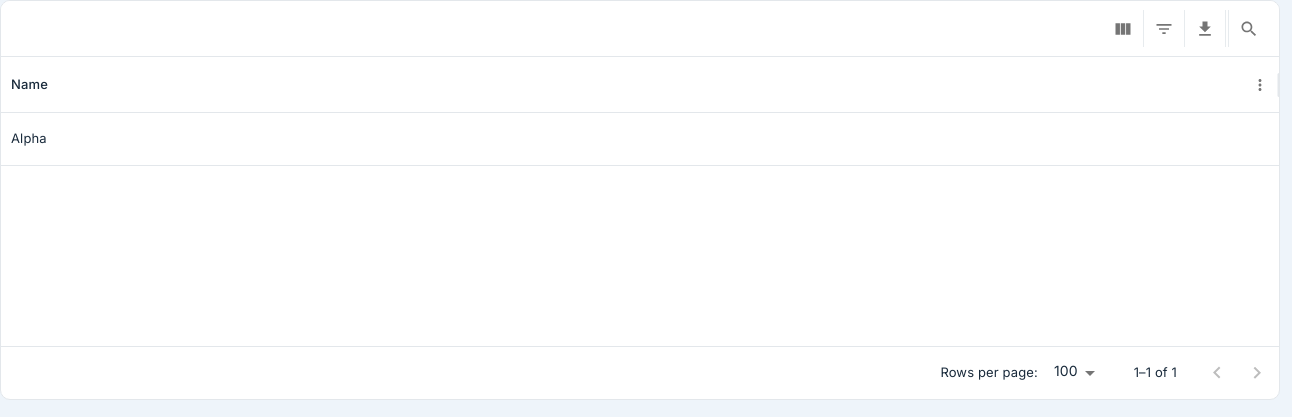
Test case: CustomToolbar › renders columns, filters, and export controls
Check: the button named "Columns" is shown, box [1105,10,1141,46]
Check: the button named "Filters" is shown, box [1146,10,1182,46]
Step 1. Click the button named "Export" → (1205, 28), box [1187,10,1223,46]
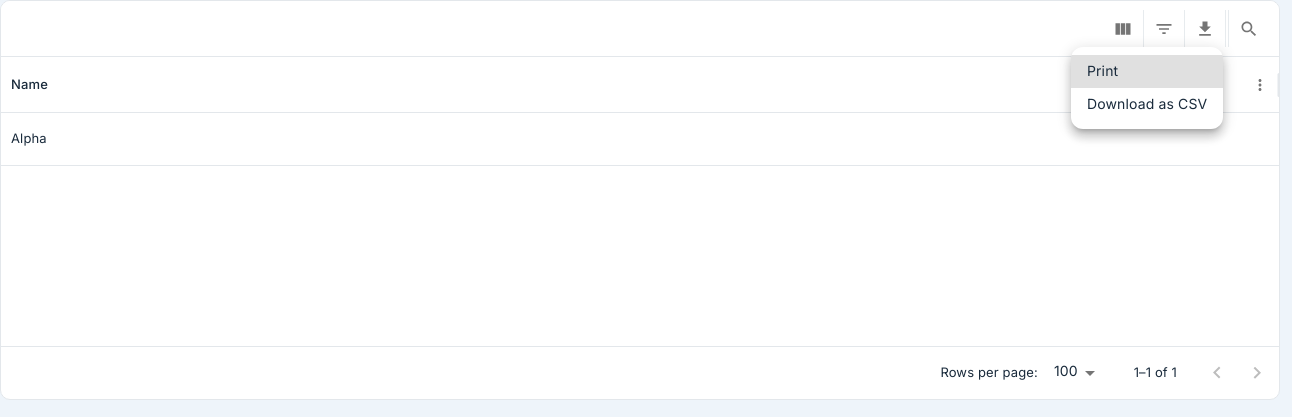
Check: the menu is shown, box [1071,47,1223,129]
Check: the menu item "Print" is shown, box [1071,55,1223,88]
Check: the menu item "Download as CSV" is shown, box [1087,96,1207,113]
